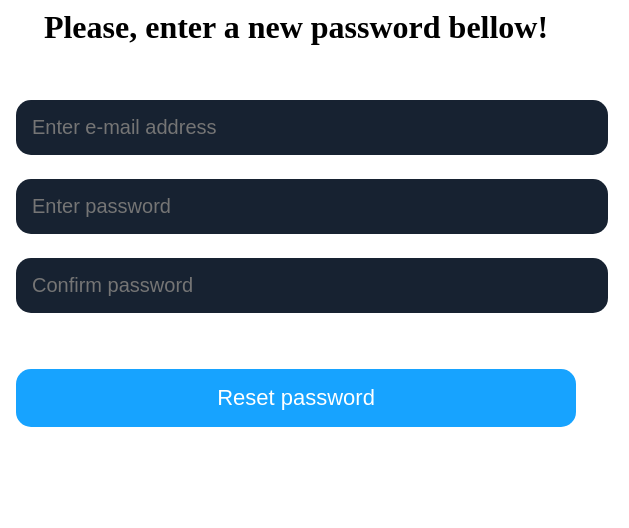
Scenario: RecoveryPassword › Should display error message on empty inputs and submit form
This screenshot has width=629, height=528.
Click the submit button. click: point(296, 398)
box: [16,369,576,427]
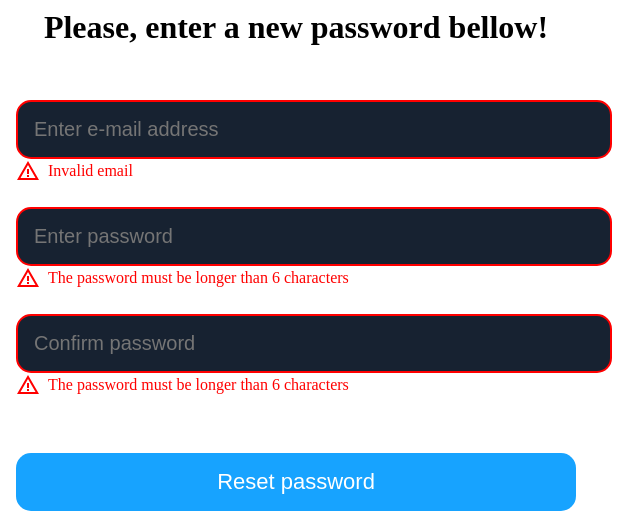
Check: the element with test id "error" showing "Invalid email" is shown, box [16,159,133,183]
